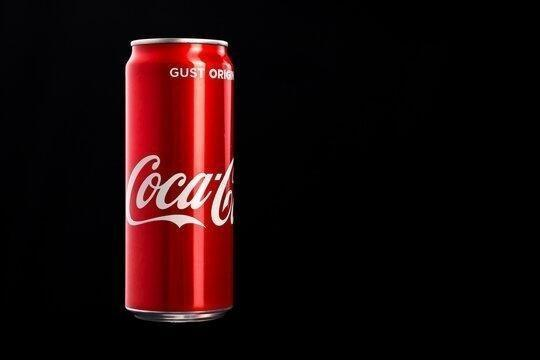tin can: (122, 35, 237, 325)
